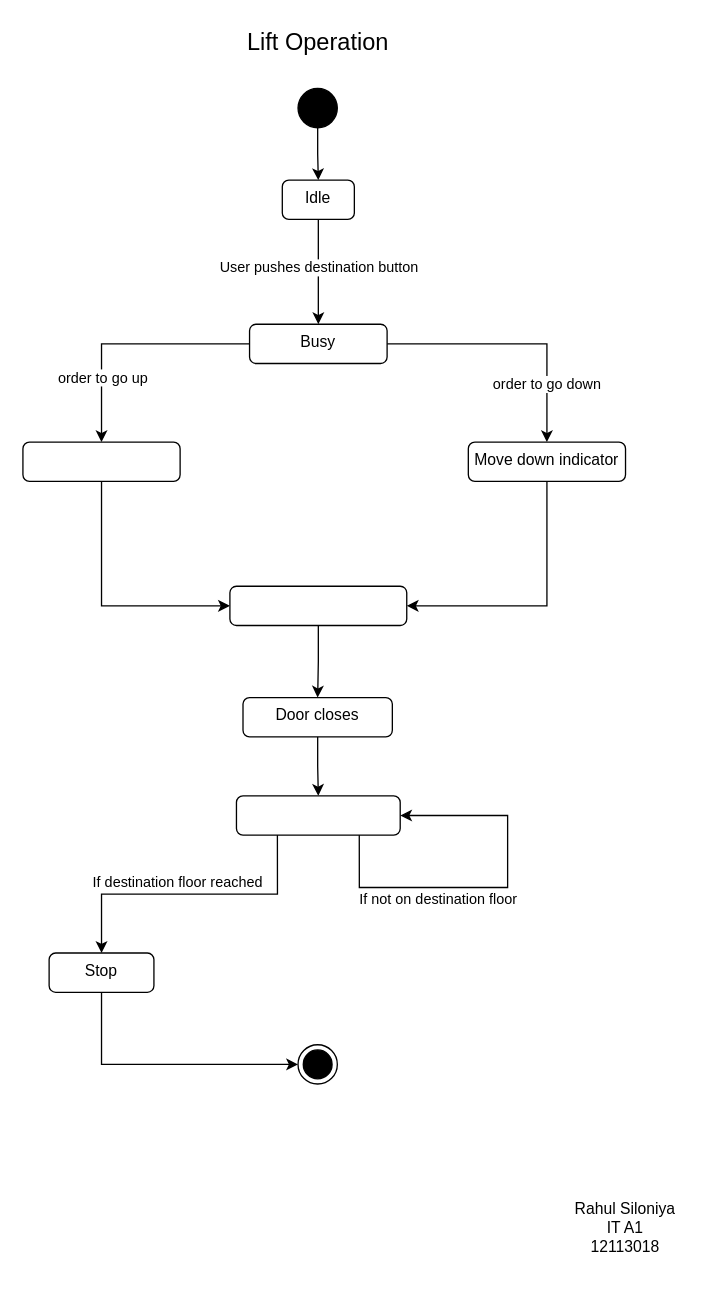
Some shapes in this 727 by 1289 pixel diagram are drawn without their labels. Each missing label, with the centre of its shape:
Move up indicator: the point at 101,461
Moving: the point at 317,815
Switches floor button: the point at 318,605
